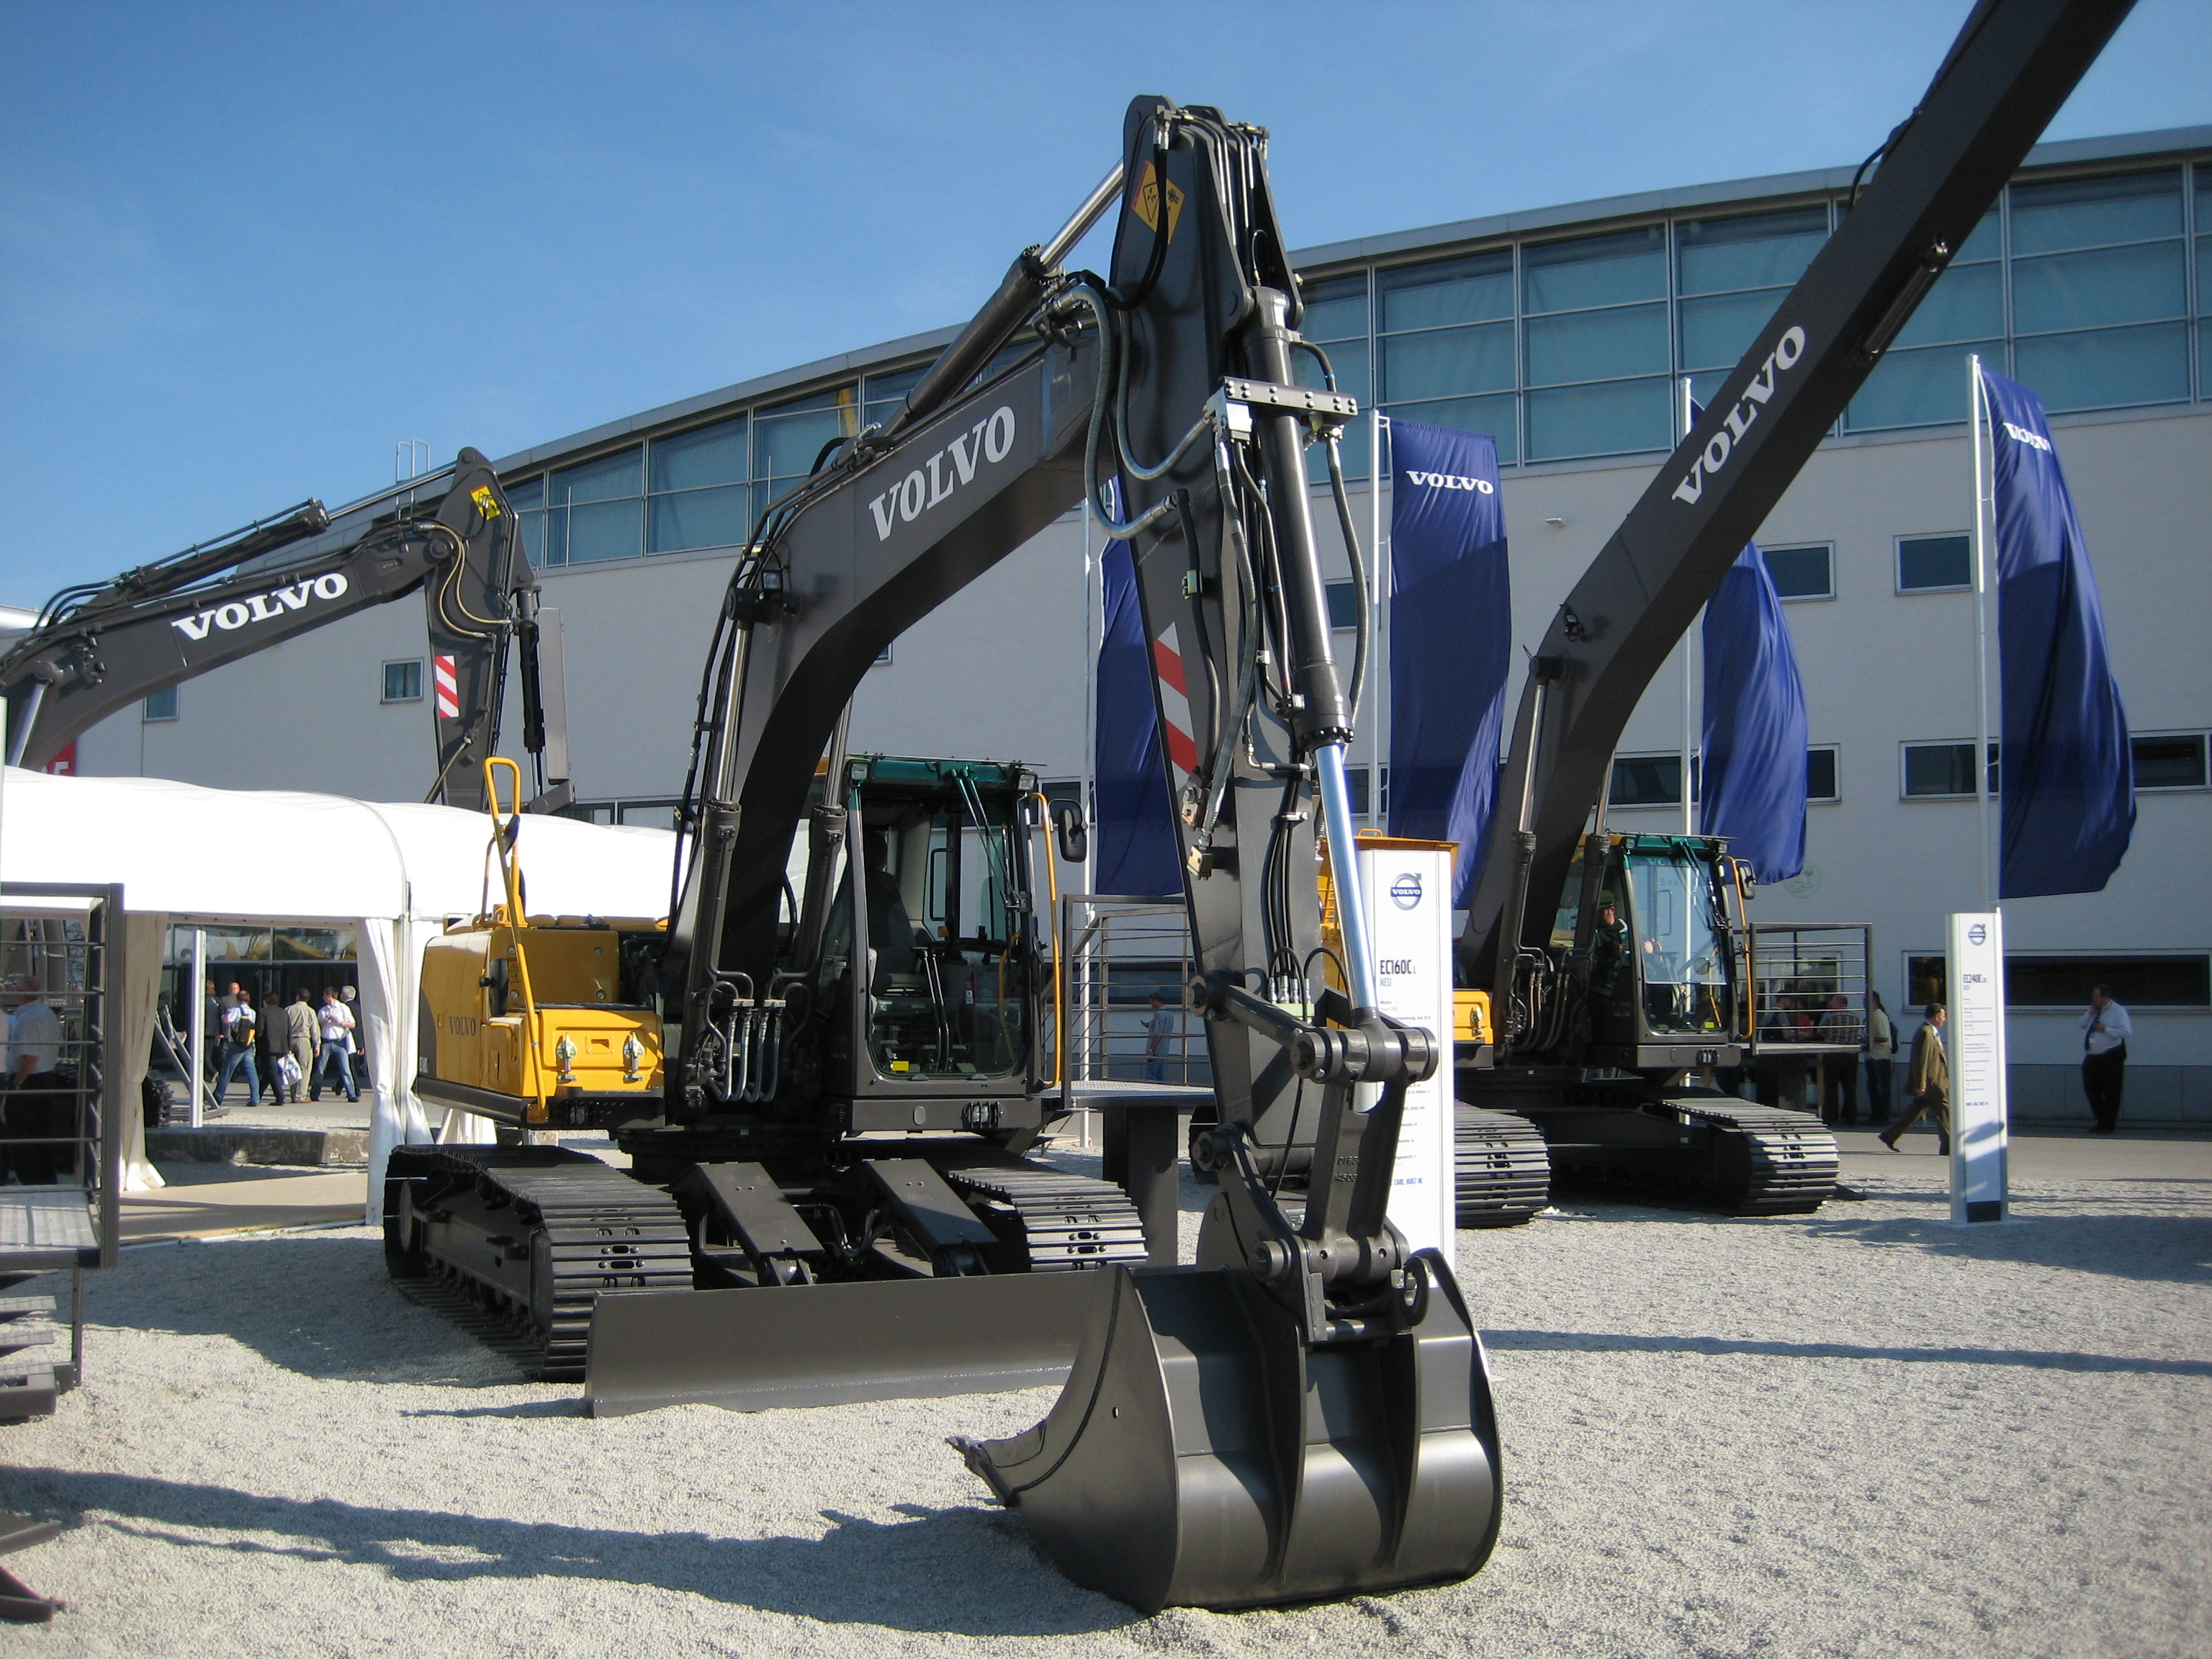excavator: (390, 108, 1505, 1608), (1456, 0, 2130, 1234)
